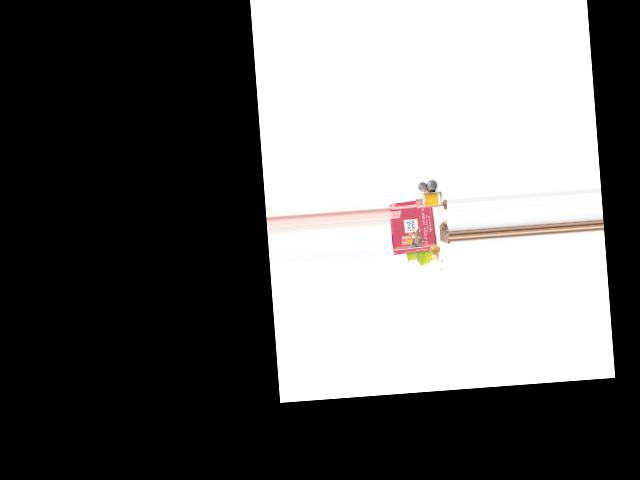chocolate: (389, 200, 436, 256)
